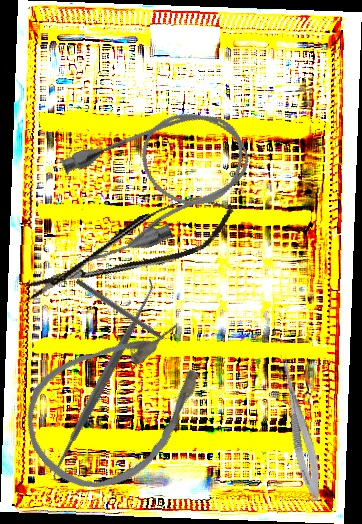Cannula: (2, 294, 236, 515), (48, 91, 267, 271)
Hook Surgical: (74, 278, 178, 351)
Micro Scissor: (15, 185, 243, 312), (270, 351, 328, 504)
Spatula Surgical: (40, 276, 167, 483)
